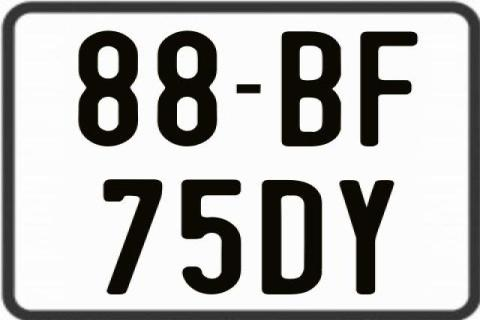0: (75, 29, 140, 150), (103, 178, 168, 298), (156, 29, 217, 148), (180, 178, 240, 294)
B: (282, 31, 341, 149)
D: (261, 180, 326, 294)
F: (357, 30, 419, 146)
Y: (337, 178, 392, 294)
